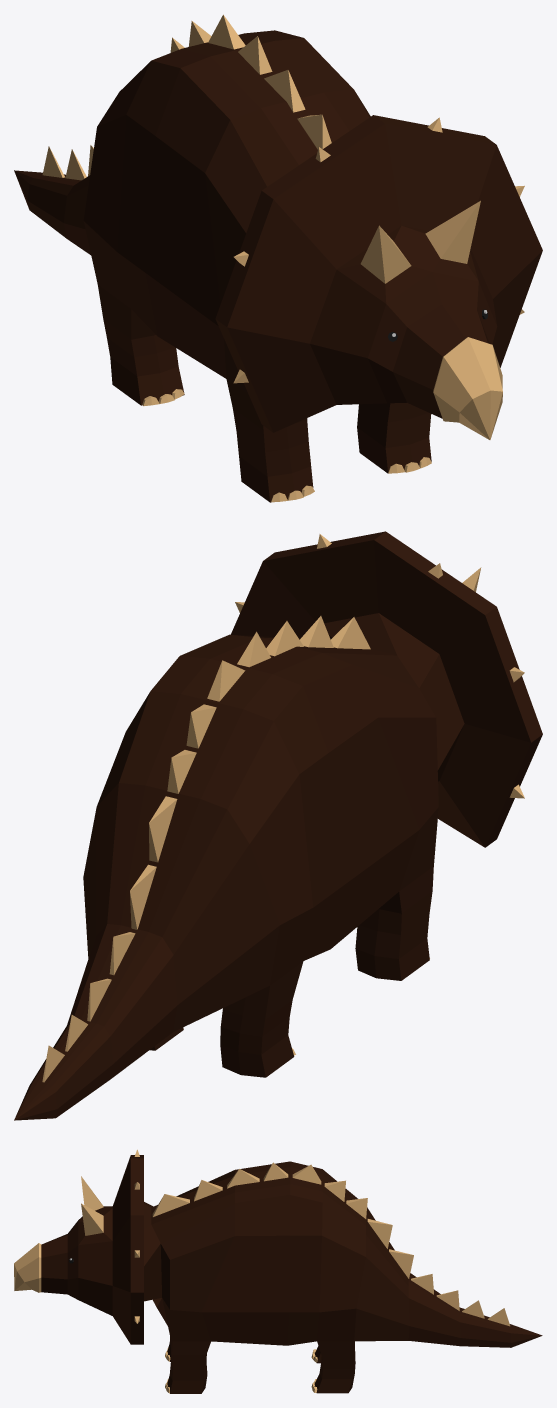
The model's file is Dinosaur_01.fbx.
3 renders of one model, top to bottom at view 1: azimuth 30°, elevation 25°; view 2: azimuth 150°, elevation 25°; view 3: azimuth 270°, elevation 25°, orthographic. The views are drawn at different scales.
Visible parts, largest first — view 1: Dinosaur_01; view 2: Dinosaur_01; view 3: Dinosaur_01.
Boxes of the visible parts, box(x1,y1,x2,y2) form: Dinosaur_01: box(14, 14, 542, 502); Dinosaur_01: box(14, 531, 542, 1120); Dinosaur_01: box(14, 1149, 542, 1393).
Bounding box in the file's own units: 9.11 × 10.65 × 23.86.
